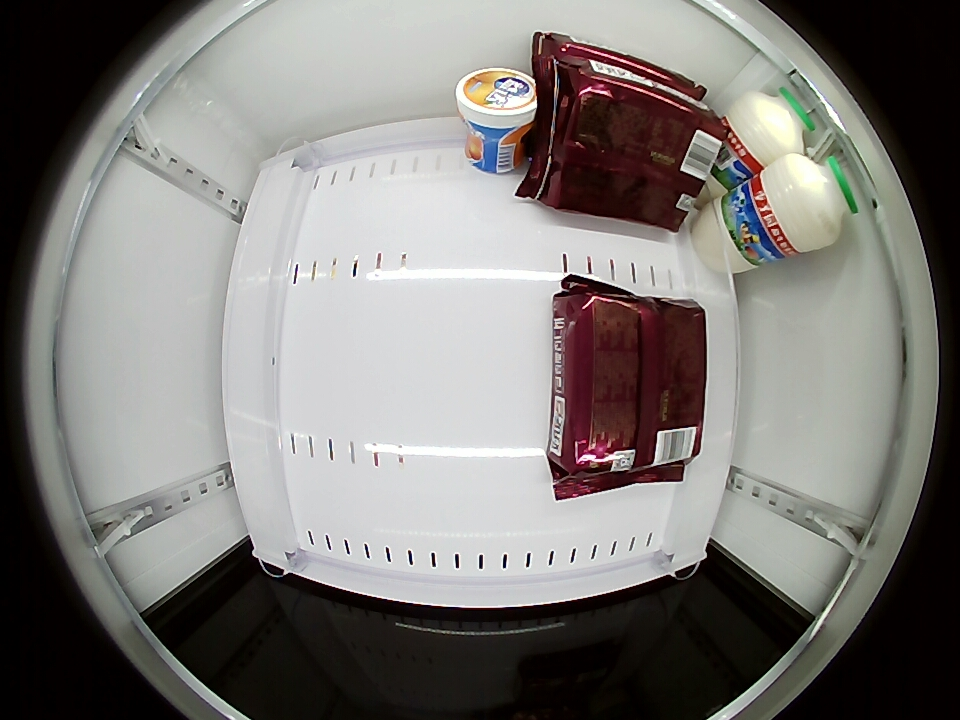haochidian: (552, 288, 704, 479), (544, 60, 732, 152), (533, 33, 708, 96)
liziyuan: (762, 153, 861, 255), (727, 88, 813, 167)
yida: (456, 67, 539, 133)
